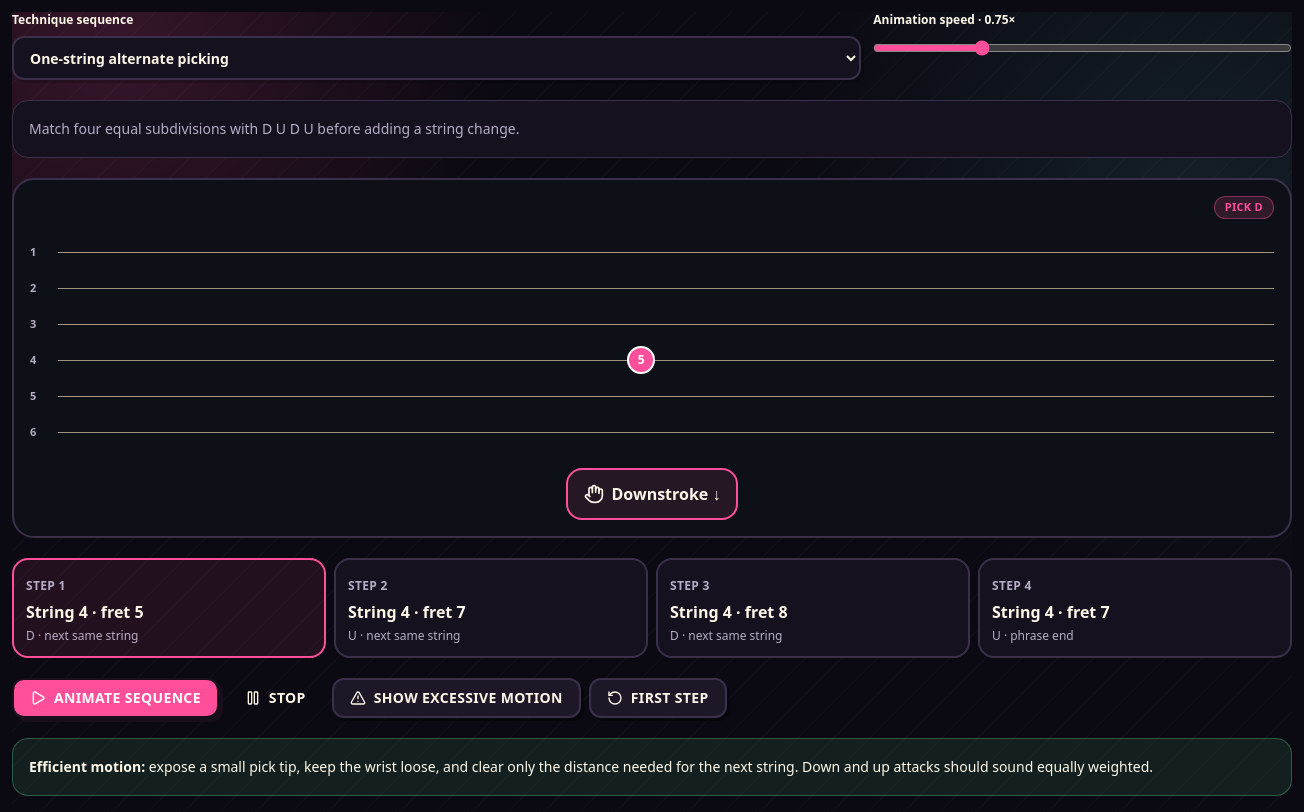
Scenario: PickingVisualizer › shows the audible and physical consequence of excessive motion
Expected: the message shows "Efficient motion", x1=29 y1=757 x2=145 y2=776
Click the button "Show excessive motion". click: (456, 698)
box: x1=332 y1=678 x2=581 y2=718
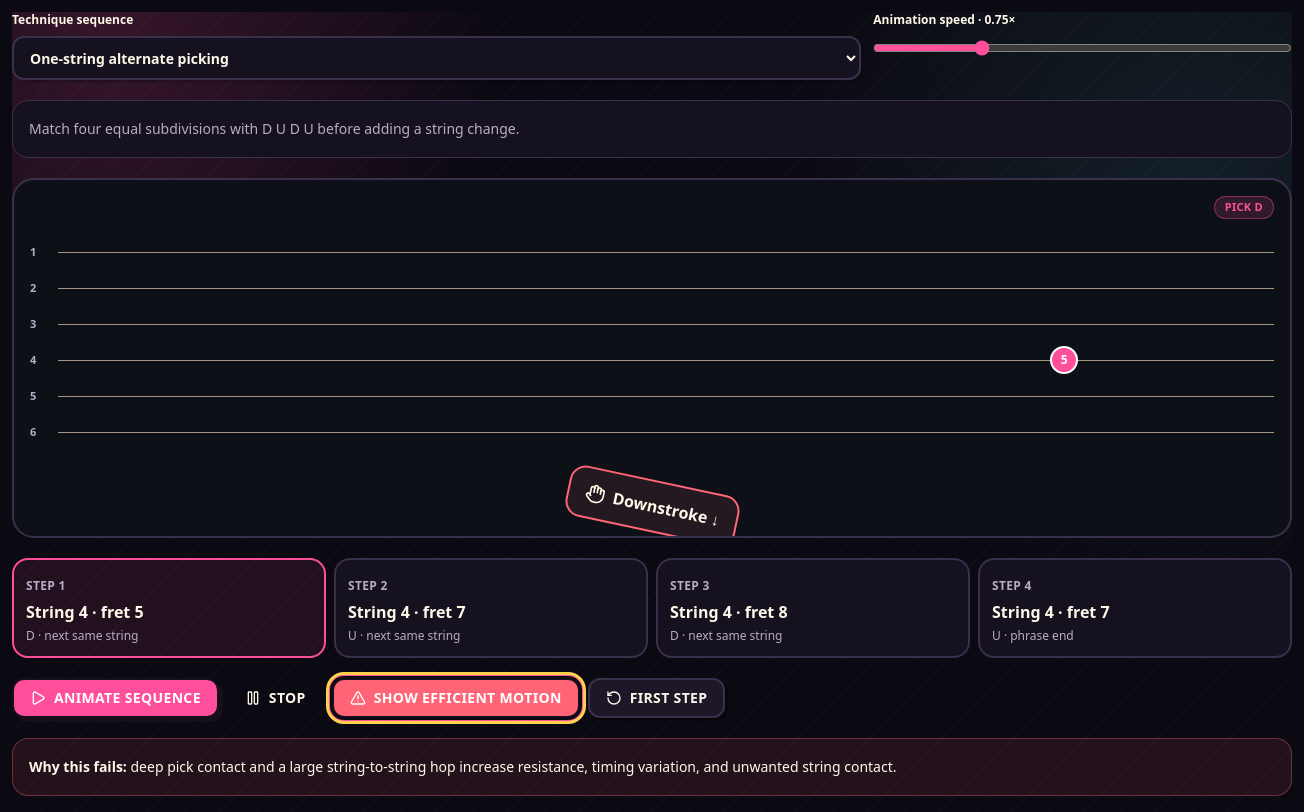
Expected: the message shows "Why this fails", x1=29 y1=757 x2=127 y2=776
